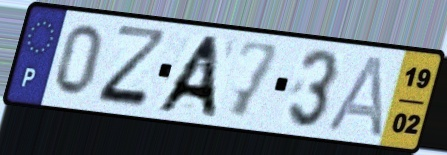0: (50, 23, 108, 100)
3: (280, 47, 345, 130)
7: (229, 37, 281, 123)
A: (151, 33, 225, 121), (324, 53, 387, 140)
Z: (94, 22, 172, 112)
